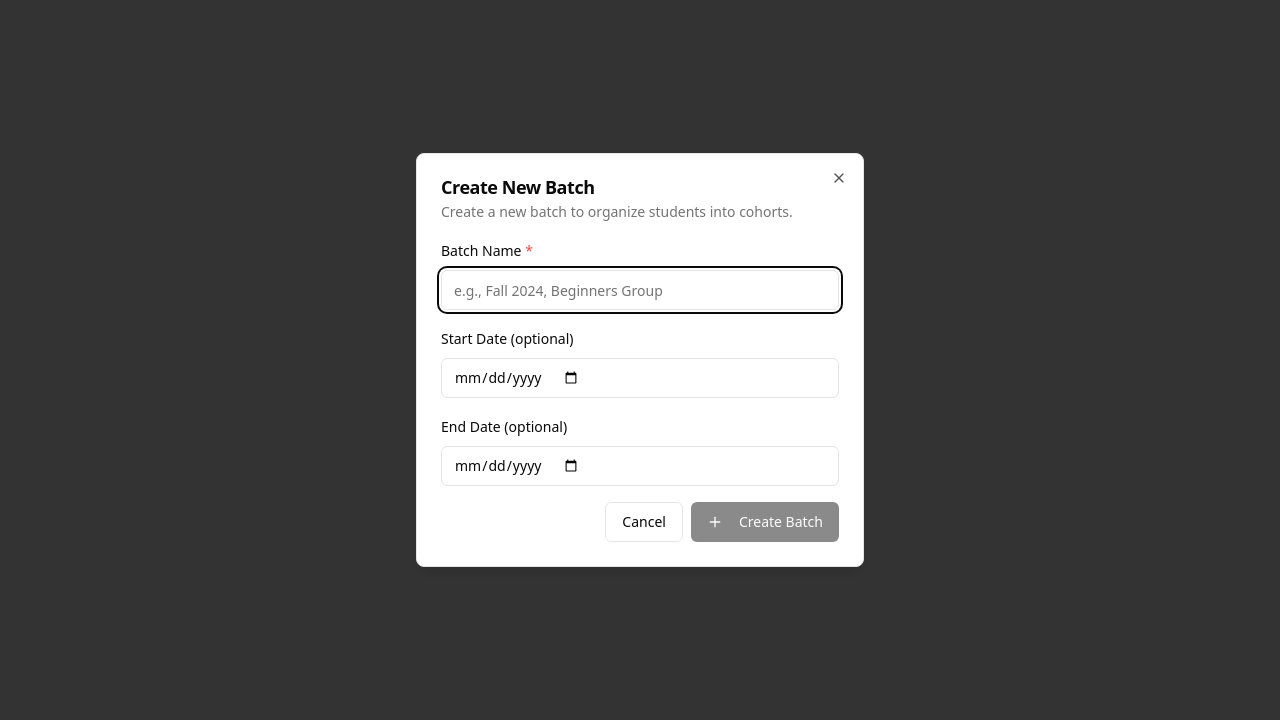
Test: CreateBatchDialog › form validation › enables submit button when name has value
Type "Fall 2024" into the field labelled "Batch Name *" at (640, 290), box x1=441 y1=270 x2=839 y2=310
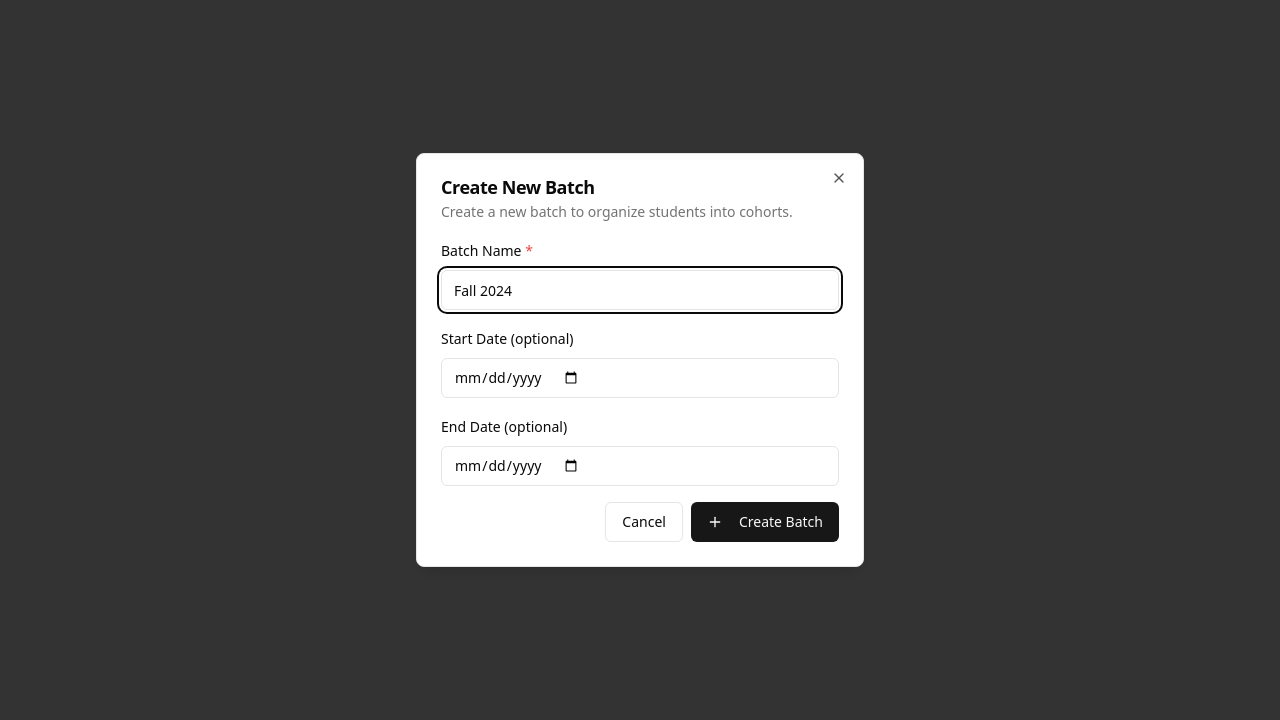
Now the button "Create Batch" is enabled, box x1=691 y1=502 x2=839 y2=542
